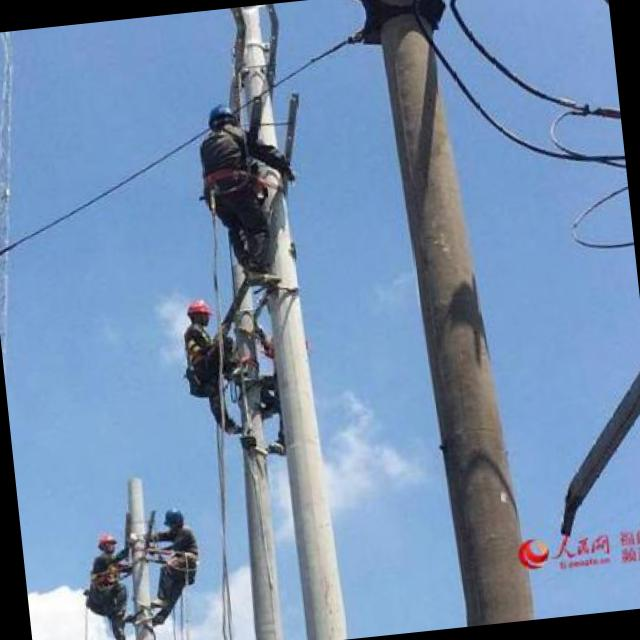helmet: (200, 98, 240, 137), (180, 286, 212, 334), (158, 500, 190, 538), (92, 527, 121, 559)
